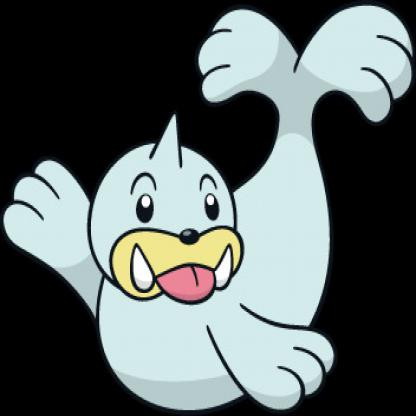Seel: (1, 1, 416, 416)
